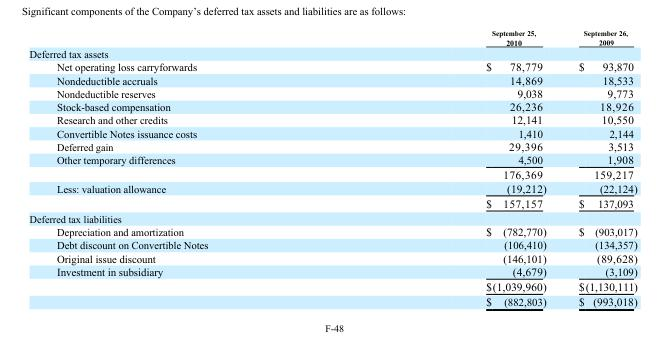table: (28, 28, 636, 307)
table column: (28, 28, 346, 307), (346, 28, 561, 307), (561, 28, 636, 307)
table column header: (28, 28, 636, 47)
table projected row header: (28, 210, 636, 224), (28, 47, 636, 59)
table row: (28, 28, 636, 47), (28, 166, 636, 181), (28, 195, 636, 210), (28, 278, 636, 293), (28, 59, 636, 73), (28, 112, 636, 126), (28, 152, 636, 166), (28, 181, 636, 195), (28, 210, 636, 224), (28, 237, 636, 251), (28, 264, 636, 278), (28, 293, 636, 307), (28, 73, 636, 86), (28, 86, 636, 99), (28, 99, 636, 112), (28, 126, 636, 139), (28, 139, 636, 152), (28, 224, 636, 237), (28, 251, 636, 264), (28, 47, 636, 59)
